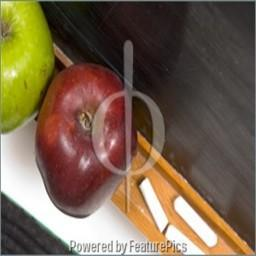apple: (32, 62, 133, 221), (0, 1, 53, 137)
